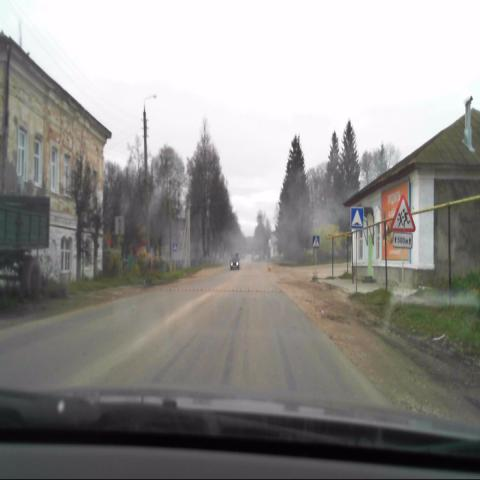1_23: (392, 195, 414, 229)
5_19_1: (313, 236, 319, 248)
5_20: (351, 206, 363, 227)
8_2_1: (392, 232, 412, 248)
